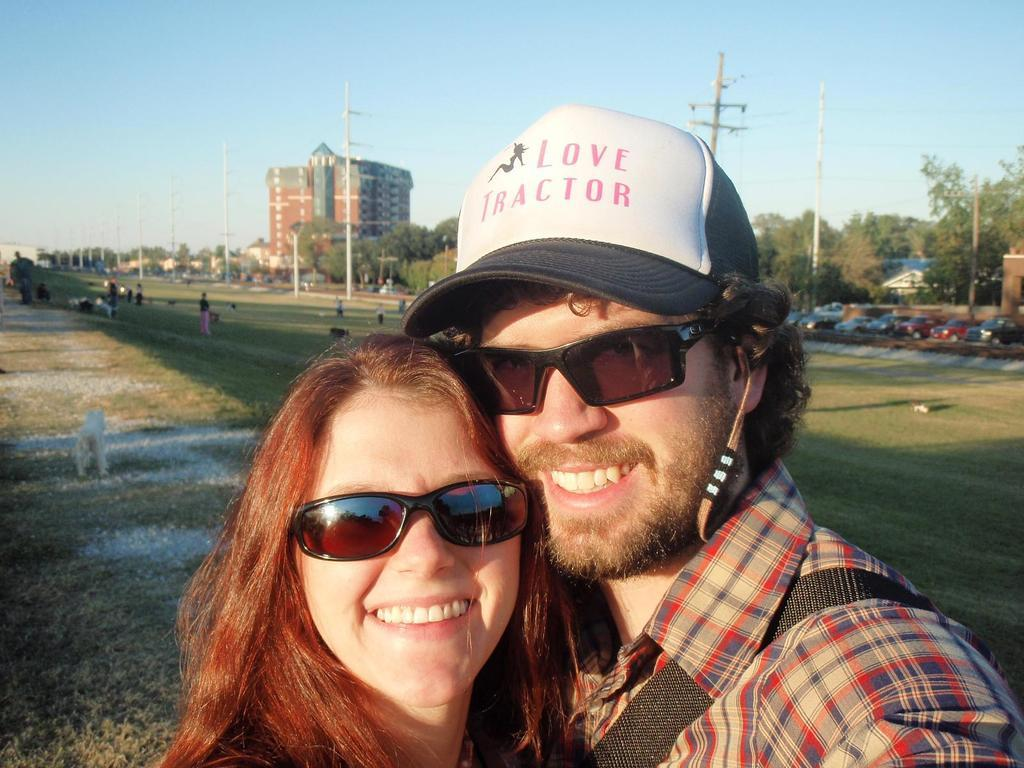Hat: (406, 102, 767, 334)
